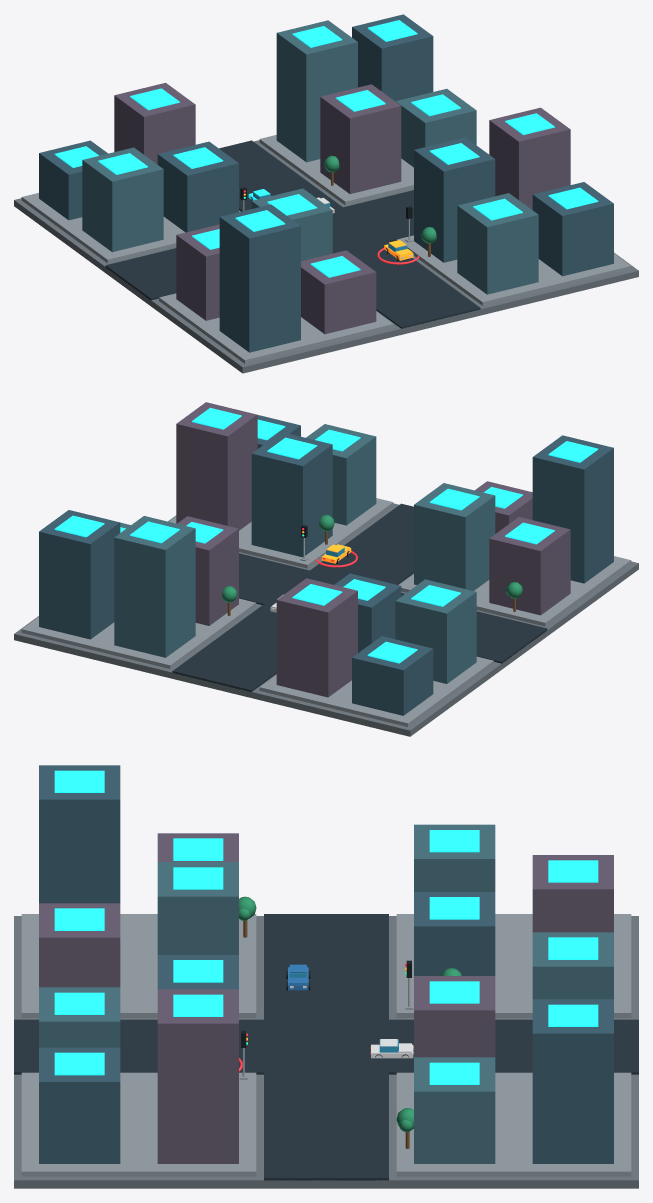
The model's file is bengaluru-city.glb.
3 renders of one model, top to bottom at view 1: azimuth 30°, elevation 25°; view 2: azimuth 150°, elevation 25°; view 3: azimuth 270°, elevation 25°, orthographic. The views are drawn at different scales.
Parts seen in each view (by area): view 1: building_9, road_ns, building_4, city_base, building_5, building_1, building_13, building_12, road_ew, building_14, building_15, building_3 (+26 smaller); view 2: building_4, road_ns, building_9, building_6, building_14, building_12, building_2, city_base, building_10, building_8, building_1, road_ew (+21 smaller); view 3: road_ew, city_base, building_14, building_6, building_9, block_12_12, block_12_-12, road_ns, building_15, building_7, block_-12_12, block_-12_-12 (+25 smaller).
Part boxes in pixels (x1,y1,x2,y2): building_9: [219, 204, 300, 352]; road_ns: [219, 140, 480, 328]; building_4: [276, 20, 357, 162]; city_base: [14, 140, 638, 373]; building_5: [320, 84, 401, 193]; building_1: [82, 147, 163, 252]; building_13: [457, 193, 538, 294]; building_12: [414, 137, 495, 262]; road_ew: [105, 190, 413, 300]; building_14: [489, 107, 570, 209]; building_15: [532, 182, 613, 276]; building_3: [157, 141, 238, 232]; building_4: [114, 516, 195, 657]; road_ns: [172, 503, 413, 691]; building_9: [532, 435, 613, 583]; building_6: [39, 510, 120, 639]; building_14: [176, 402, 257, 530]; building_12: [251, 432, 332, 557]; building_2: [276, 578, 357, 697]; city_base: [14, 503, 638, 736]; building_10: [414, 483, 495, 590]; building_8: [489, 517, 570, 615]; building_1: [395, 579, 476, 683]; road_ew: [239, 553, 547, 663]; road_ew: [264, 914, 388, 1180]; city_base: [14, 916, 638, 1188]; building_14: [157, 989, 238, 1163]; building_6: [532, 999, 613, 1163]; building_9: [39, 765, 120, 903]; block_12_12: [21, 1072, 256, 1176]; block_12_-12: [396, 1072, 631, 1176]; road_ns: [14, 1019, 638, 1074]; building_15: [39, 1047, 120, 1163]; building_7: [414, 1057, 495, 1163]; block_-12_12: [21, 914, 256, 1017]; block_-12_-12: [396, 914, 631, 1017].
Size of the model in its own units: 40 by 12.09 by 40.
